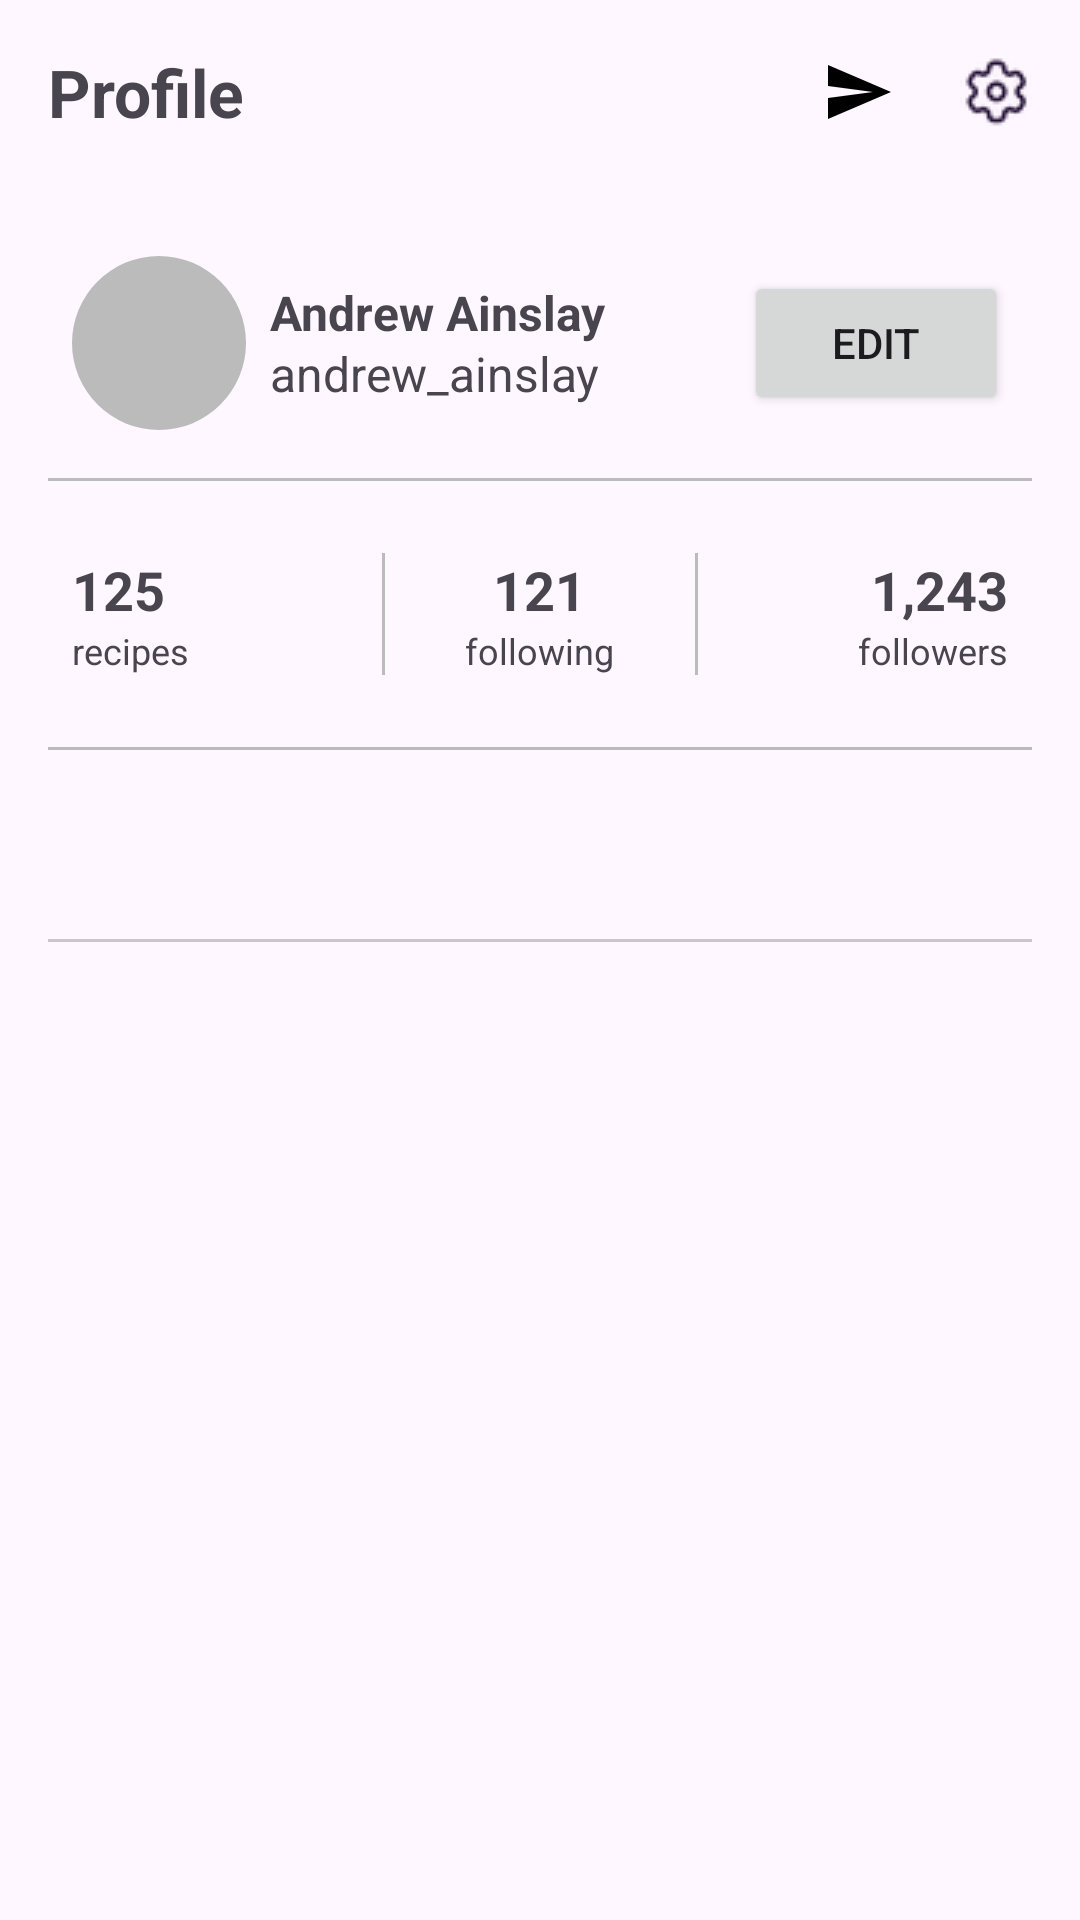

Icons on this 1080px×1920px Android screen, each with its box as (x1, y1, x2, y2):
send: (828, 65, 891, 119)
setting: (965, 58, 1027, 125)
